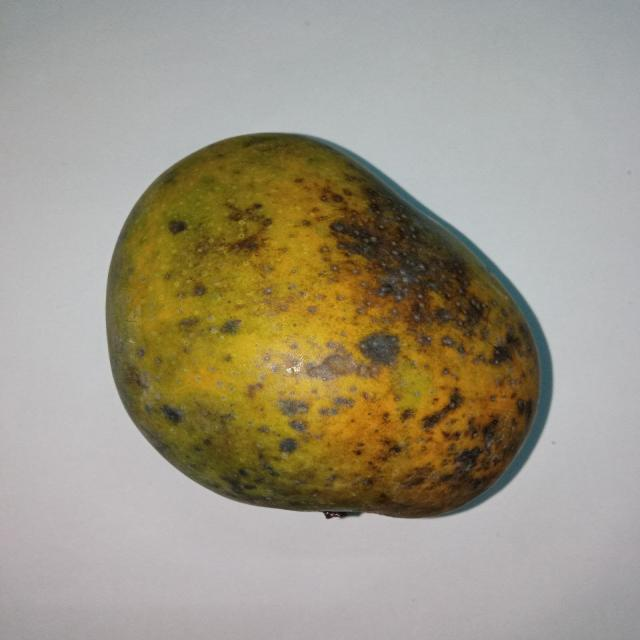rotten_mango: (104, 131, 538, 517)
